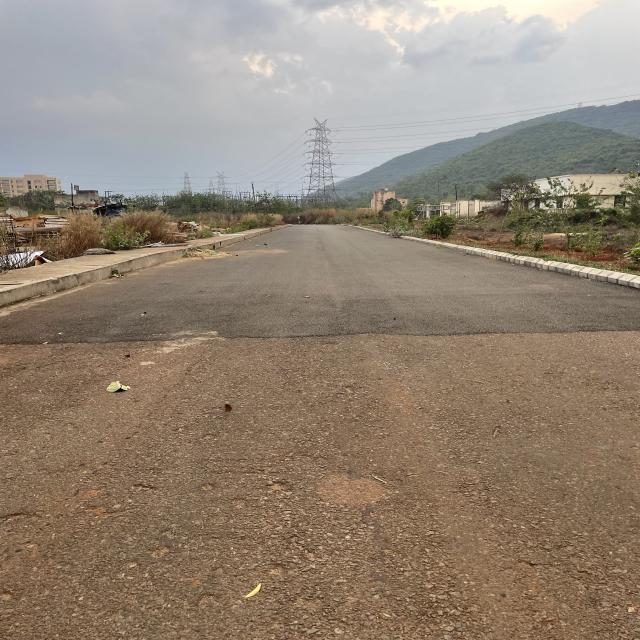D11: (51, 316, 640, 355)
D40: (287, 463, 428, 524)
